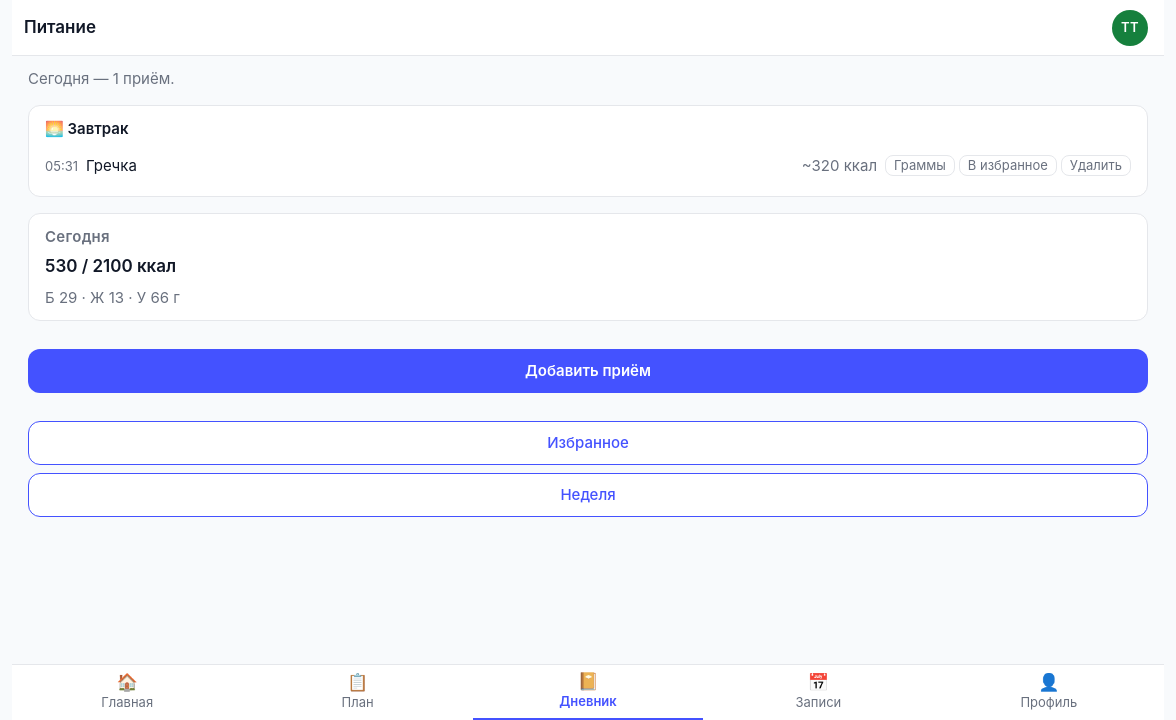
правка и удаление записи (DRF-1838) › после окна — сказано, что удалено окончательно, «Вернуть» больше нет
The image size is (1176, 720).
Click the button with aria-label "Удалить: Гречка" at (1096, 166), box [1061, 155, 1131, 176]
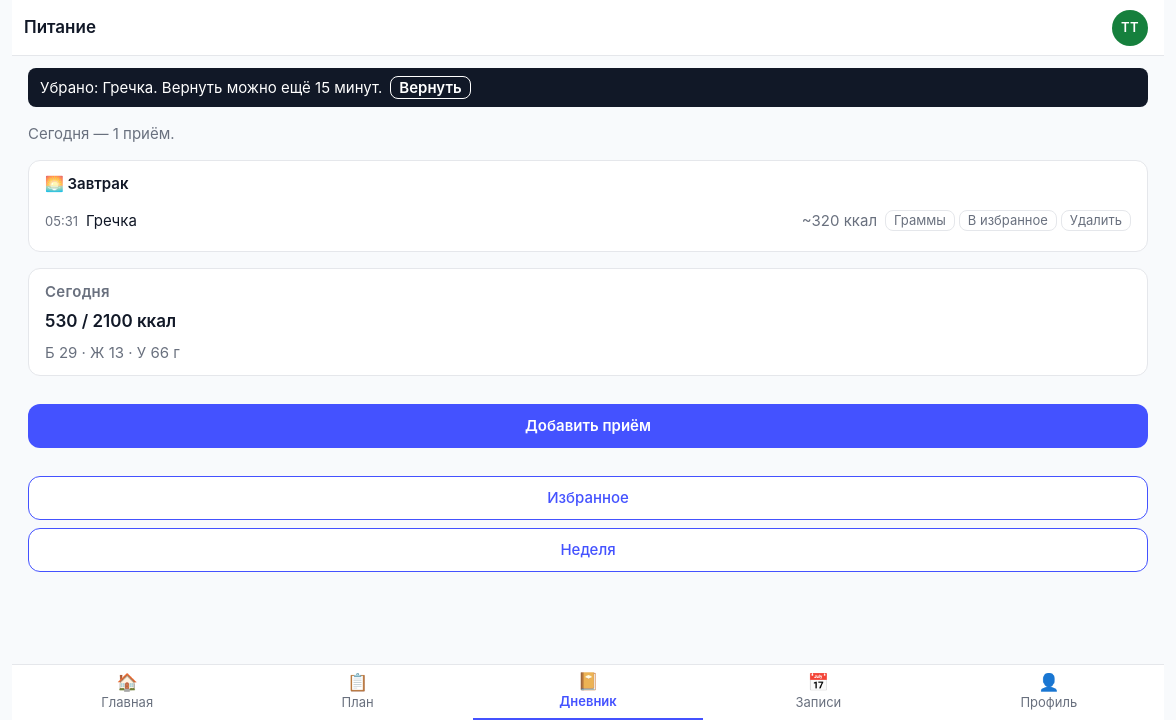
Click the button "Вернуть" at (430, 88), box [390, 76, 471, 99]
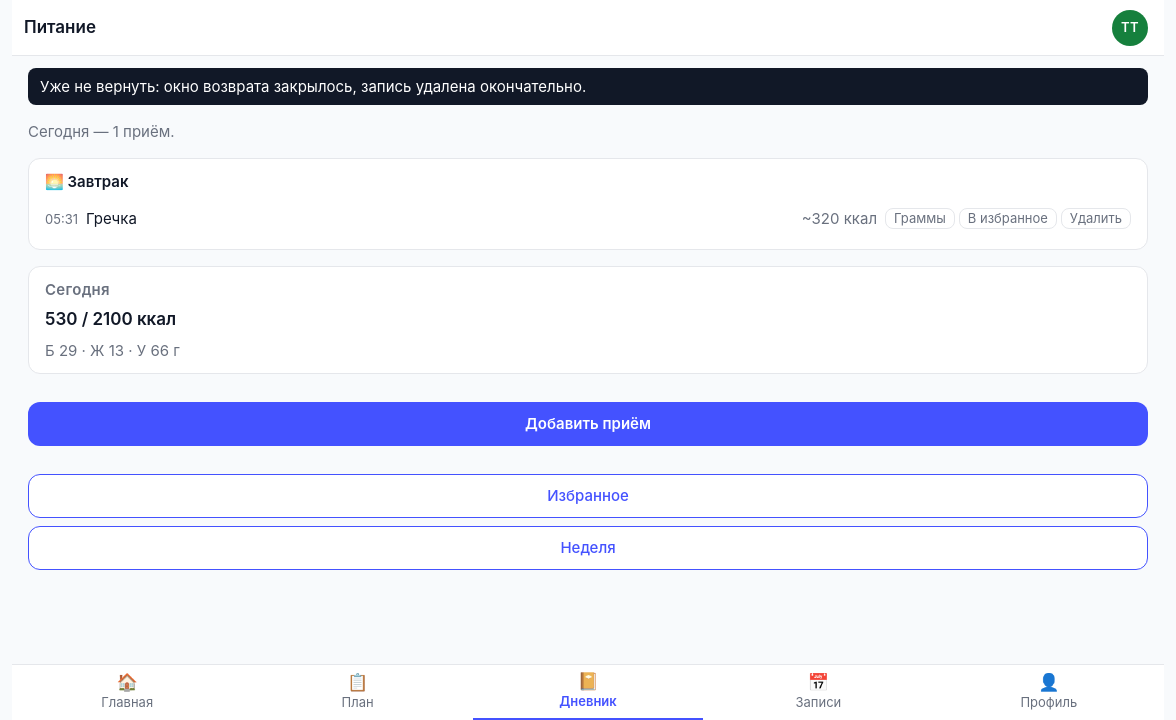
Now the text "Уже не вернуть: окно возврата закрылось, запись удалена окончательно." is shown, box [40, 76, 586, 97]
